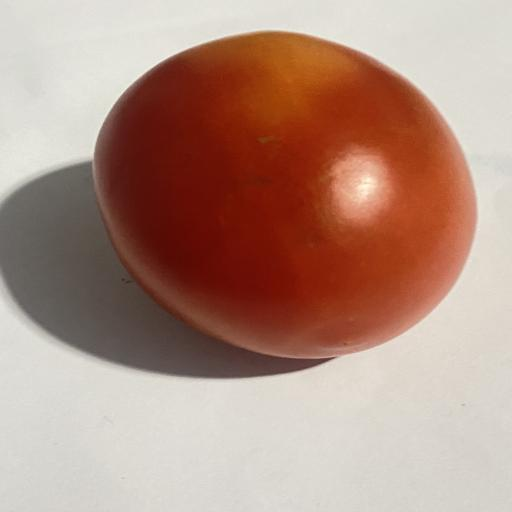ripe: (93, 32, 476, 358)
